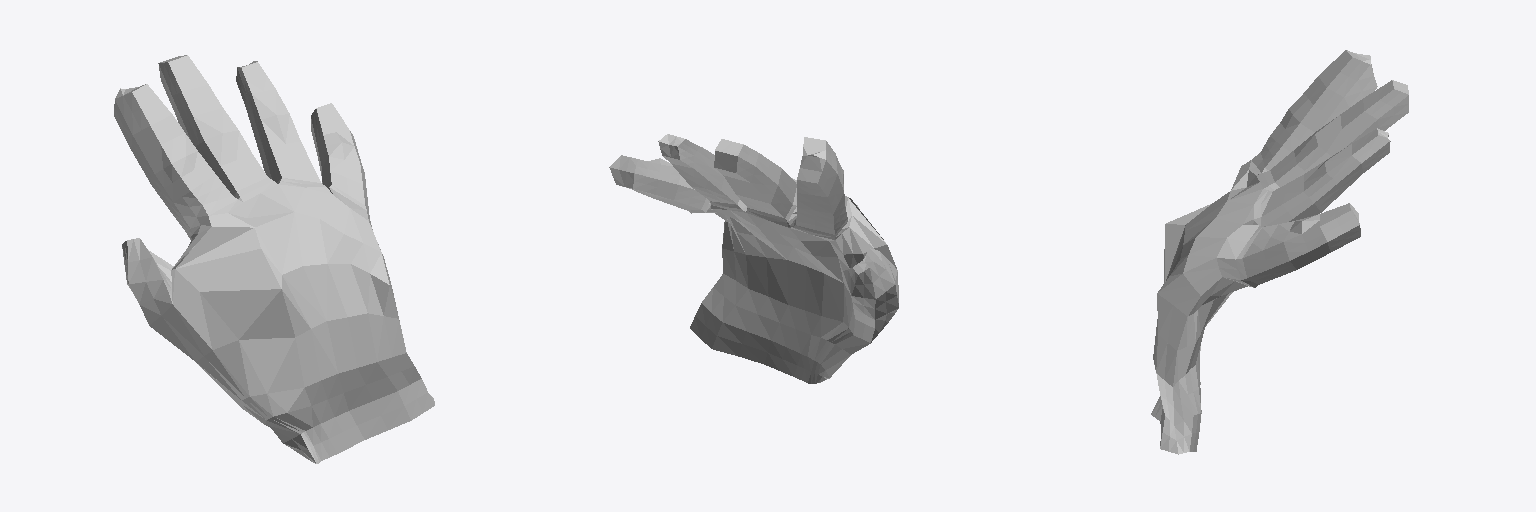
File: flexion0026.obj
3 views of the same model, side by side, from view 1: azimuth 30°, elevation 25°; view 2: azimuth 150°, elevation 25°; view 3: azimuth 270°, elevation 25° (orthographic).
Parts seen in each view (by area): view 1: Hand; view 2: Hand; view 3: Hand.
Boxes of the visible parts, <box> form: Hand: <box>114,55,434,463</box>; Hand: <box>609,134,898,383</box>; Hand: <box>1151,50,1408,454</box>.
Size of the model in its own units: 3.27 by 4 by 2.87.